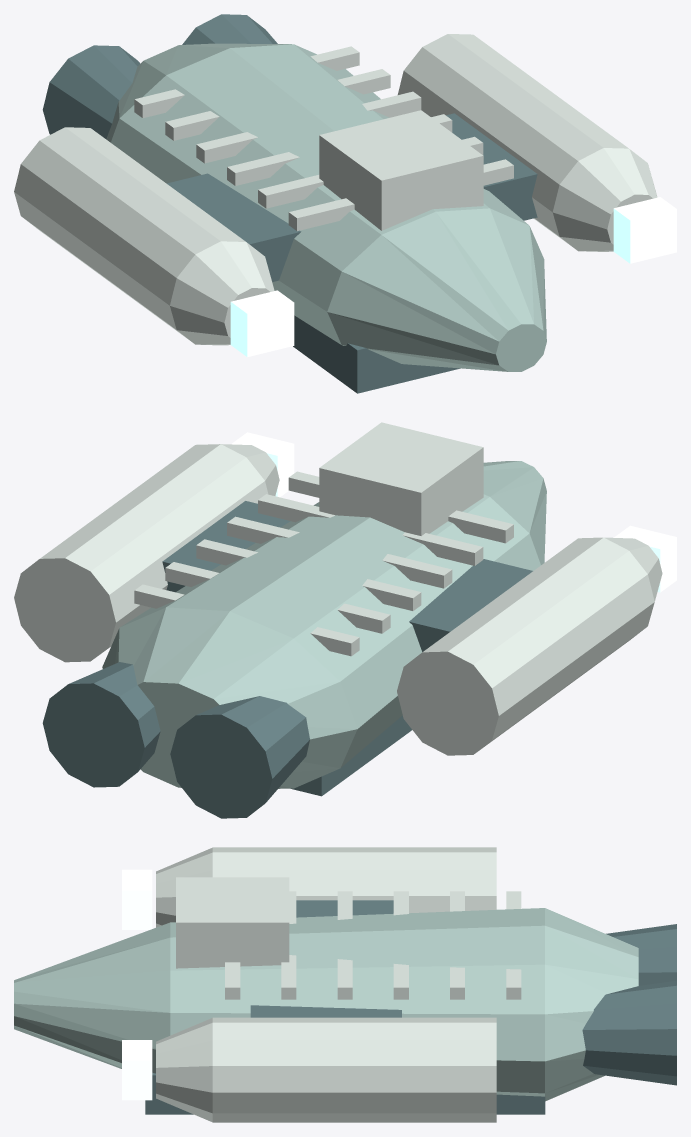
The picture shows the model from 3 angles, top to bottom: view 1: azimuth 30°, elevation 25°; view 2: azimuth 150°, elevation 25°; view 3: azimuth 270°, elevation 25°; orthographic projection. The views are drawn at different scales.
Size of the model in its own units: 5.34 by 2.12 by 6.93.
